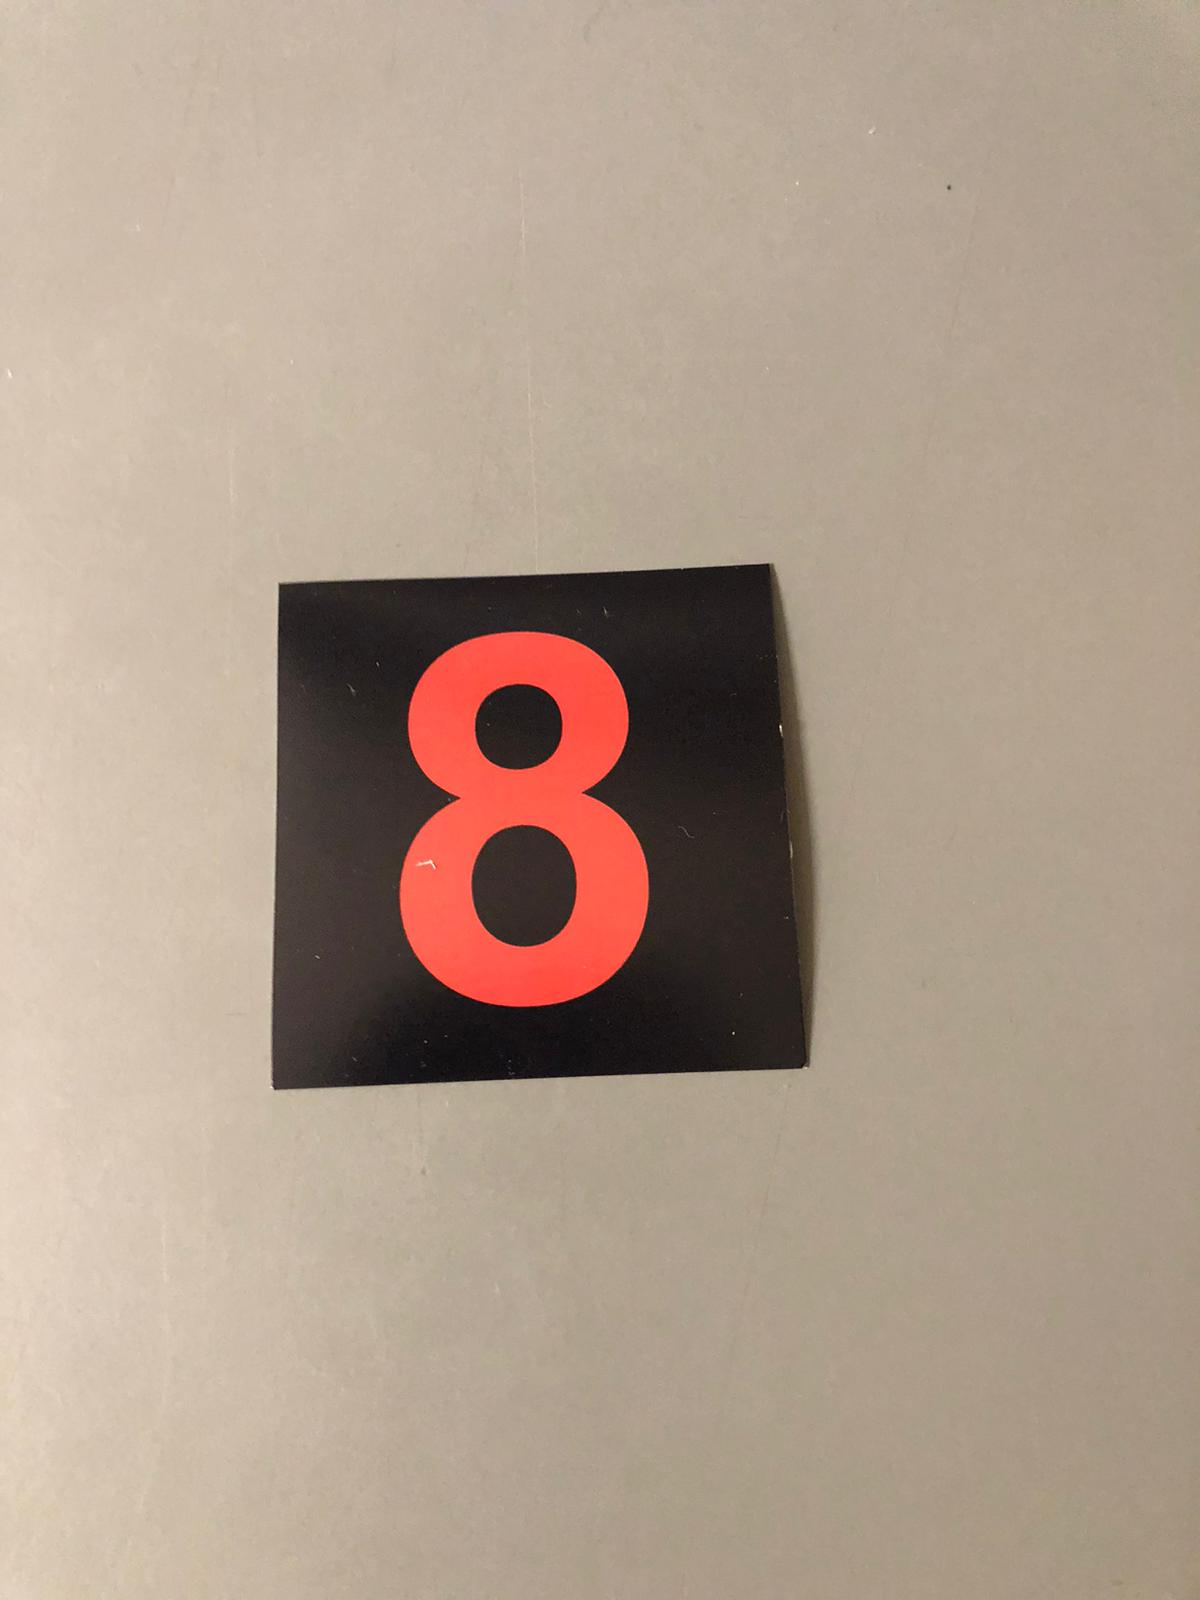Number 8: (286, 593, 779, 1070)
